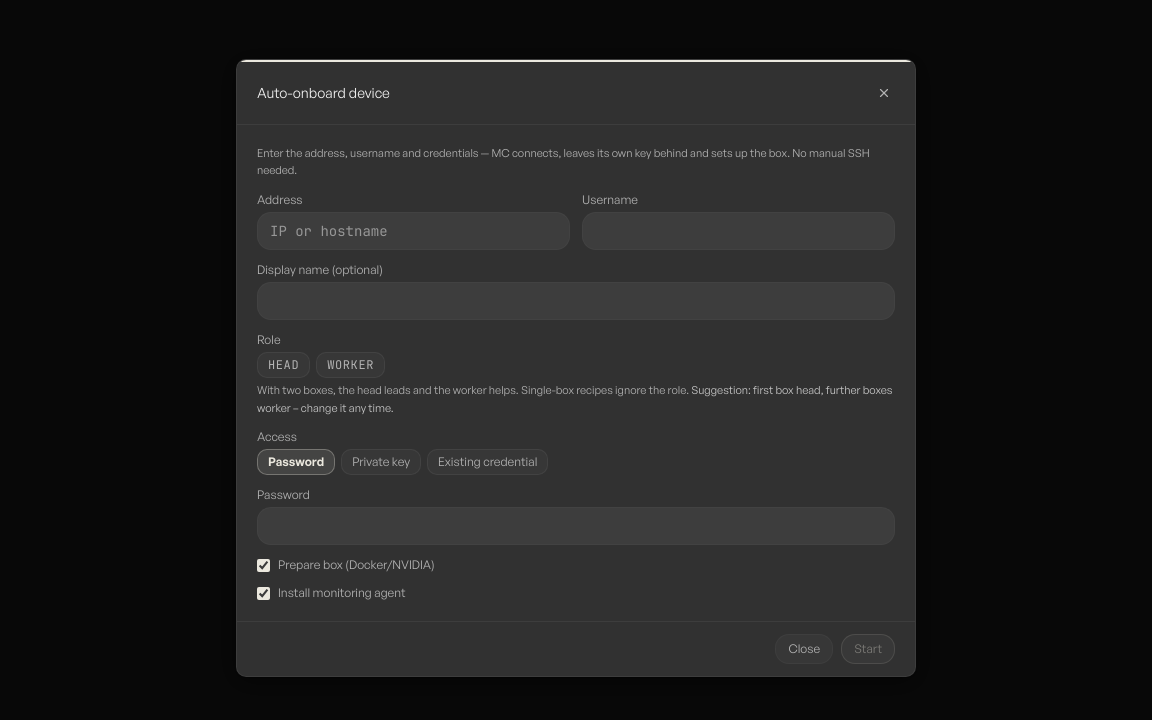
Scenario: HostOnboardDialog › switching auth method swaps the visible credential field
Click the button "Private key".
click(381, 462)  # box [341,450,421,476]
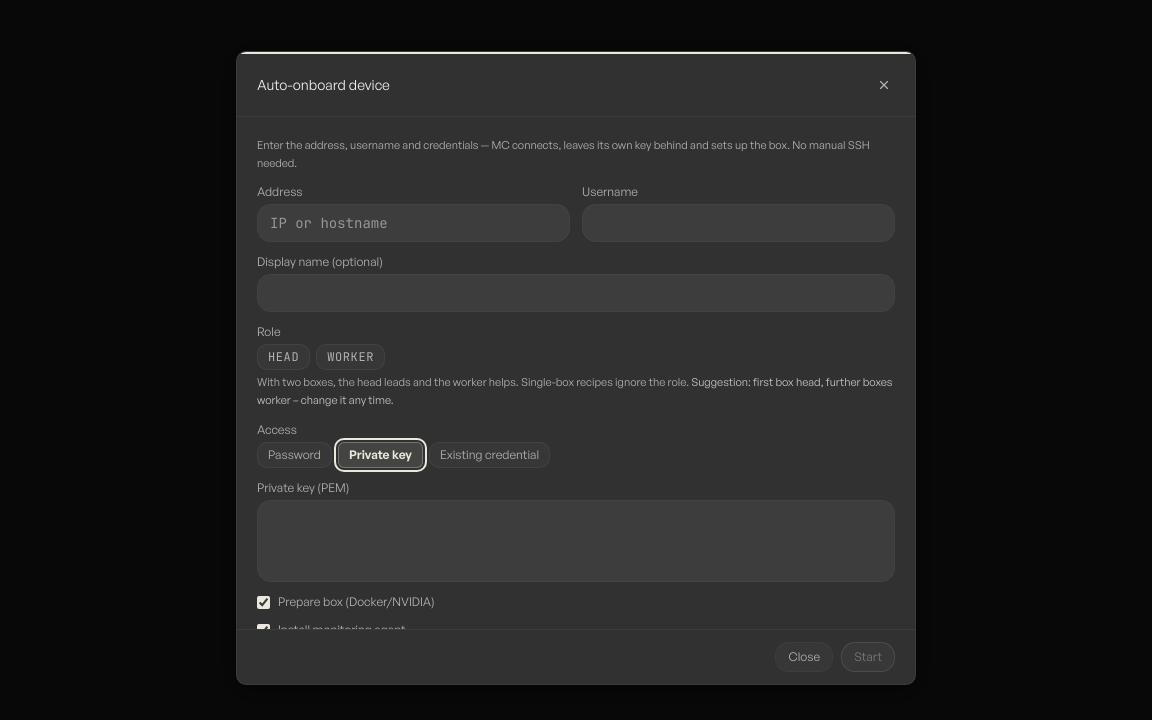
Click the button "Existing credential".
click(490, 455)  # box [429,442,550,468]
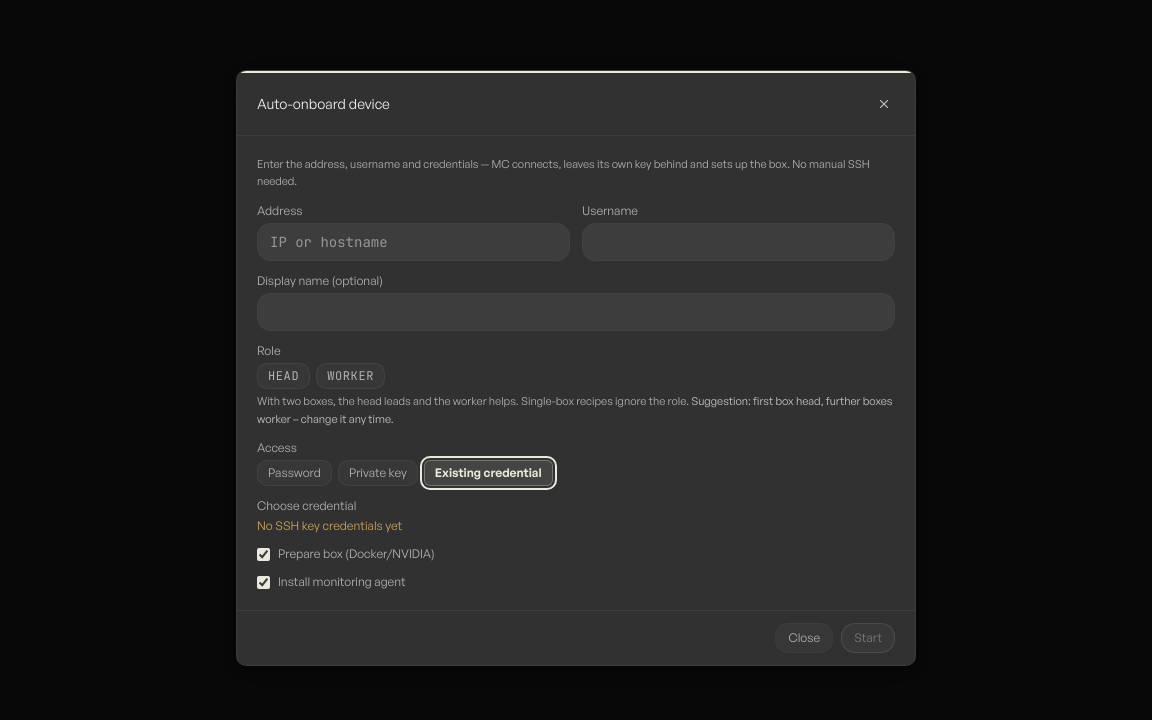
Result: the text box with test id "onboard-private-key" is gone
